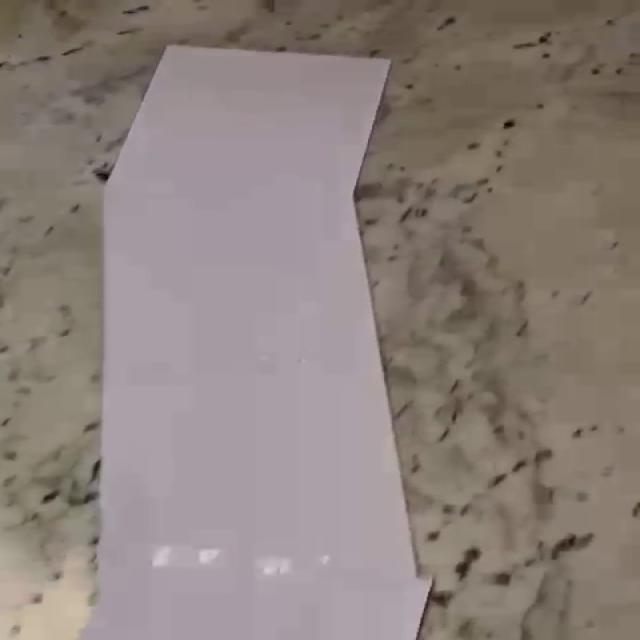road: (79, 45, 435, 640)
